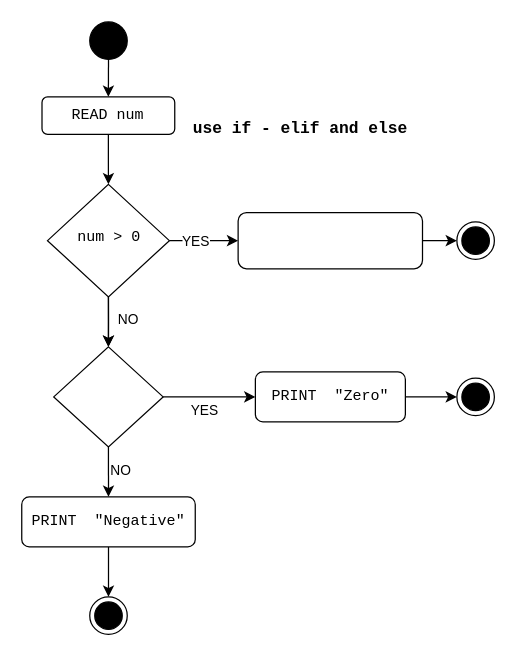
Some shapes in this 518 by 656 pixel diagram are drawn without their labels. Here are the shapes that lost their labels. From the top down, the centre of each, then its label:
point 329,240: PRINT "Positive"
point 107,396: n == 0
